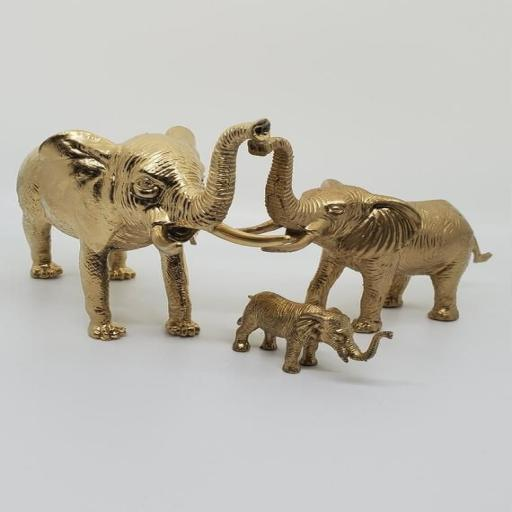Elephant: (4, 105, 276, 358), (214, 113, 503, 342), (218, 281, 400, 389)
